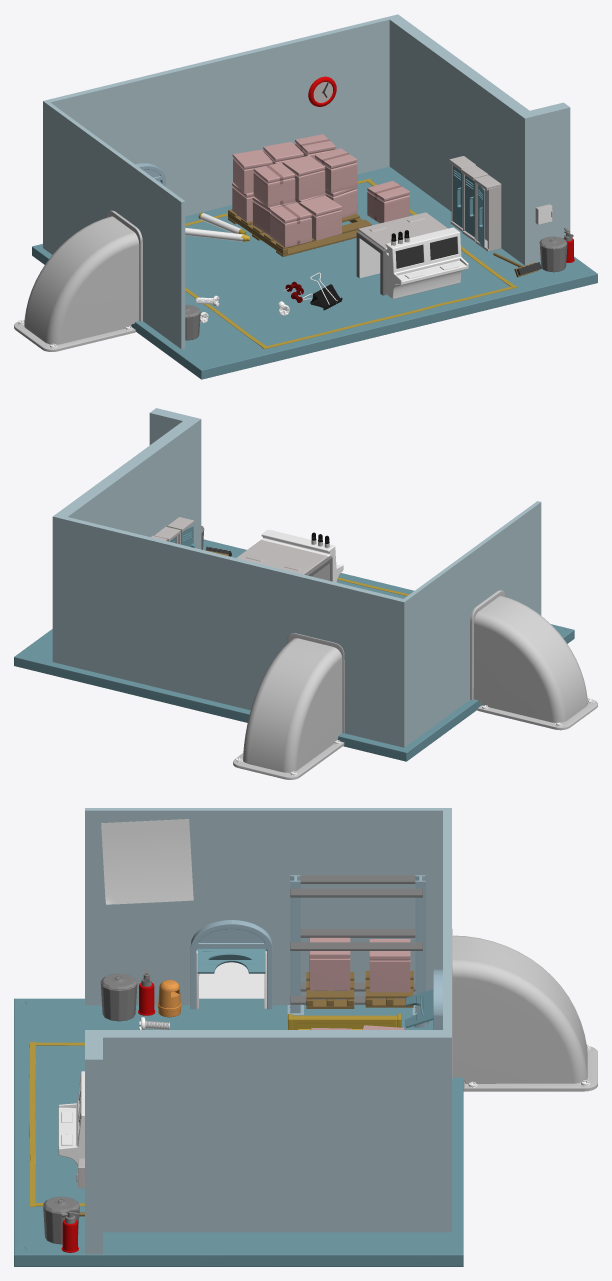
The picture shows the model from 3 angles, top to bottom: view 1: azimuth 30°, elevation 25°; view 2: azimuth 150°, elevation 25°; view 3: azimuth 270°, elevation 25°; orthographic projection. The views are drawn at different scales.
Parts seen in each view (by area): view 1: Walls, Mesh8_Plastic_Blue_0, pTorus5, Body, Box_032, Box_028, Box_035, Box_033, Box_025, Box_024, pCube179, pCube187 (×2) (+13 smaller); view 2: Walls, pTorus5 (×2), Mesh8_Plastic_Blue_0, Body; view 3: Walls, Mesh8_Plastic_Blue_0, pTorus5, pCube244, pCube248, Machine_04_Inlet_Trim_03, pCylinder143 (×2), Box24, Box25, pCylinder96 (×2), Body, pCube195 (+9 smaller).
Boxes of the visible parts, left/top/right/bottom form: Walls: left=43, top=14, right=570, bottom=349; Mesh8_Plastic_Blue_0: left=32, top=166, right=597, bottom=379; pTorus5: left=14, top=210, right=142, bottom=351; Body: left=358, top=212, right=468, bottom=299; Box_032: left=253, top=162, right=295, bottom=207; Box_028: left=269, top=202, right=311, bottom=247; Box_035: left=367, top=180, right=409, bottom=223; Box_033: left=315, top=148, right=357, bottom=193; Box_025: left=282, top=155, right=325, bottom=200; Box_024: left=299, top=195, right=341, bottom=240; pCube179: left=475, top=183, right=501, bottom=251; pCube187 (×2): left=453, top=165, right=474, bottom=236; Walls: left=52, top=408, right=541, bottom=747; pTorus5 (×2): left=233, top=590, right=597, bottom=779; Mesh8_Plastic_Blue_0: left=14, top=539, right=574, bottom=761; Body: left=236, top=529, right=343, bottom=582; Walls: left=85, top=808, right=451, bottom=1254; Mesh8_Plastic_Blue_0: left=14, top=998, right=463, bottom=1266; pTorus5: left=452, top=929, right=597, bottom=1091; pCube244: left=101, top=819, right=193, bottom=904; pCube248: left=190, top=920, right=272, bottom=1009; Machine_04_Inlet_Trim_03: left=196, top=951, right=266, bottom=1008; pCylinder143 (×2): left=197, top=948, right=433, bottom=1027; Box24: left=369, top=939, right=410, bottom=992; Box25: left=309, top=937, right=350, bottom=990; pCylinder96 (×2): left=43, top=982, right=137, bottom=1244; Body: left=58, top=1071, right=84, bottom=1166; pCube195: left=292, top=1015, right=396, bottom=1029.
Size of the model in its own units: 64.29 by 19.7 by 50.36.
